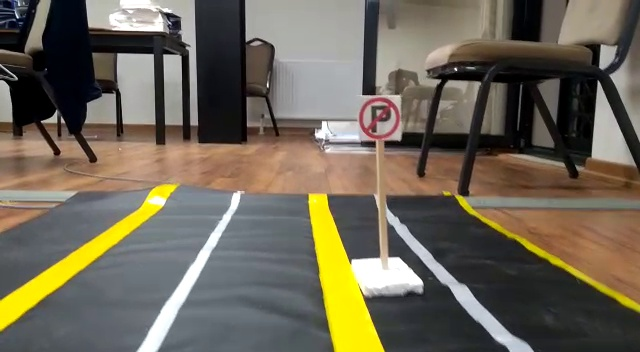park_yapilmaz: (355, 94, 402, 142)
